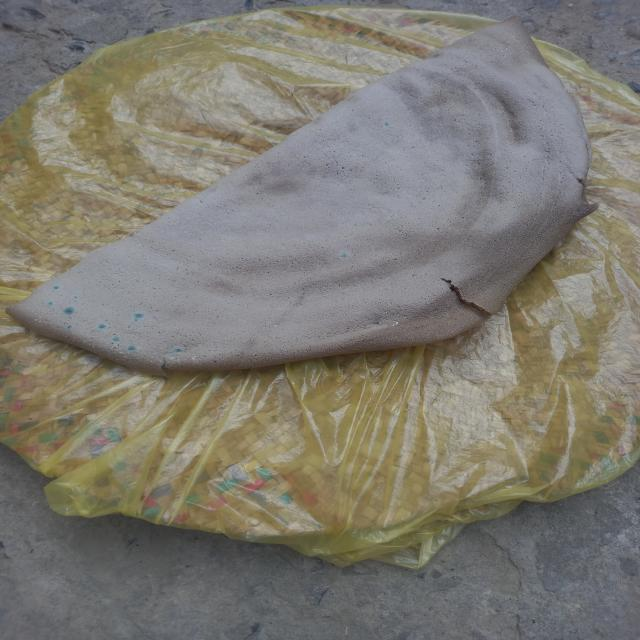injera_mold: (91, 342, 126, 362), (165, 356, 181, 368), (62, 306, 76, 315), (386, 321, 399, 328), (125, 346, 138, 352), (191, 355, 198, 366), (97, 322, 106, 330), (339, 252, 349, 259), (171, 348, 184, 353), (52, 284, 61, 291), (382, 121, 390, 128), (46, 300, 54, 306), (133, 314, 145, 318), (65, 325, 73, 330), (112, 337, 121, 341), (73, 295, 79, 299), (134, 319, 140, 322), (506, 40, 509, 44), (150, 361, 154, 363), (491, 154, 495, 156), (505, 48, 509, 50), (160, 360, 162, 363), (385, 311, 388, 313), (379, 322, 382, 324), (397, 314, 400, 316), (404, 316, 407, 318), (509, 53, 512, 55), (493, 48, 495, 50), (496, 50, 498, 52), (512, 51, 514, 53), (501, 51, 504, 52), (152, 356, 154, 357)
